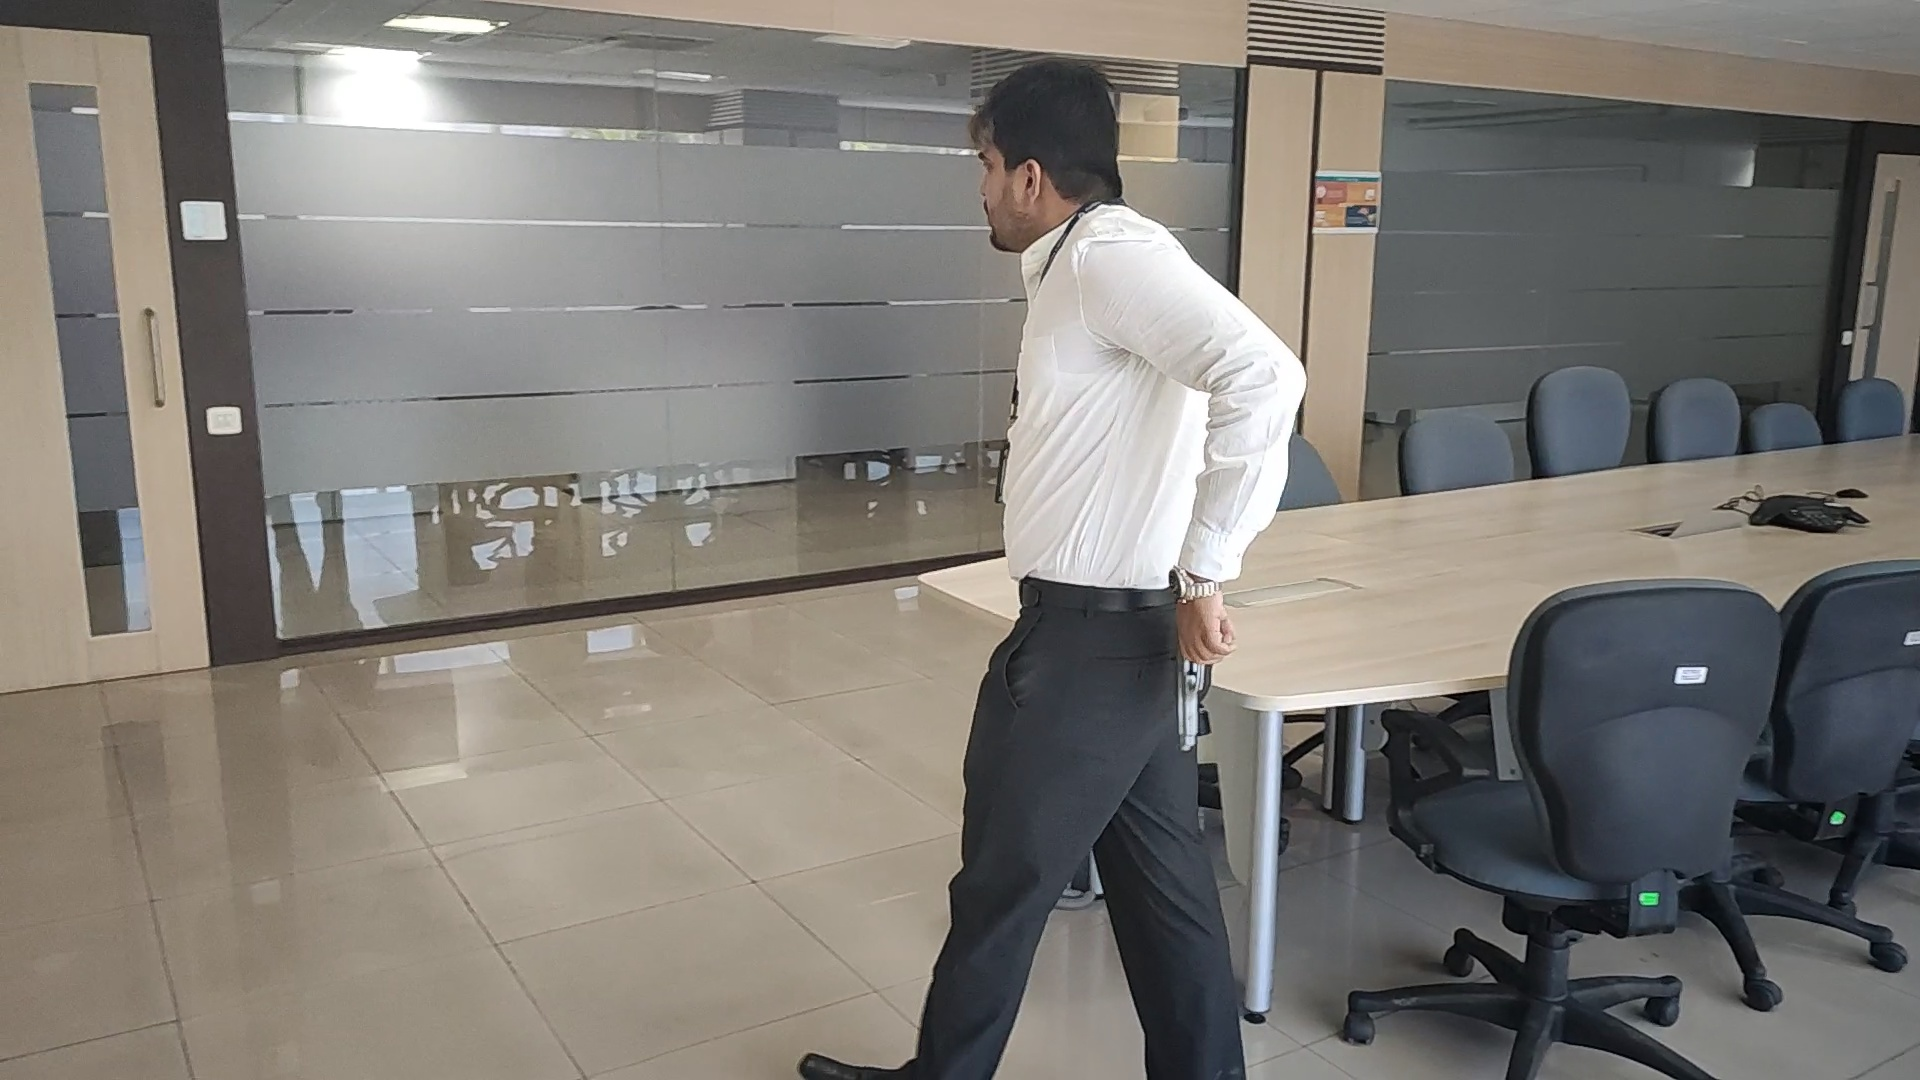gun: (1175, 658, 1211, 756)
